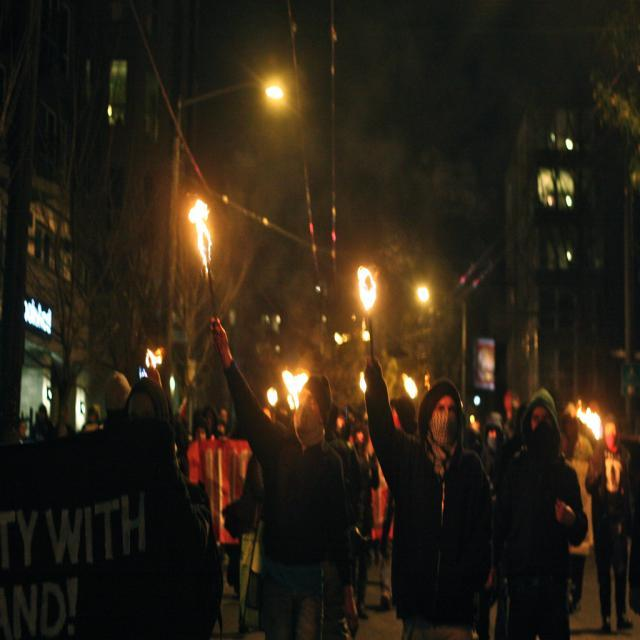Fire: (192, 192, 212, 262), (357, 259, 377, 317), (284, 368, 304, 408)
